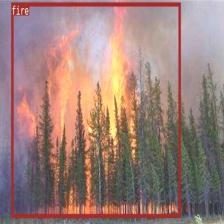fire: (11, 2, 180, 217)
